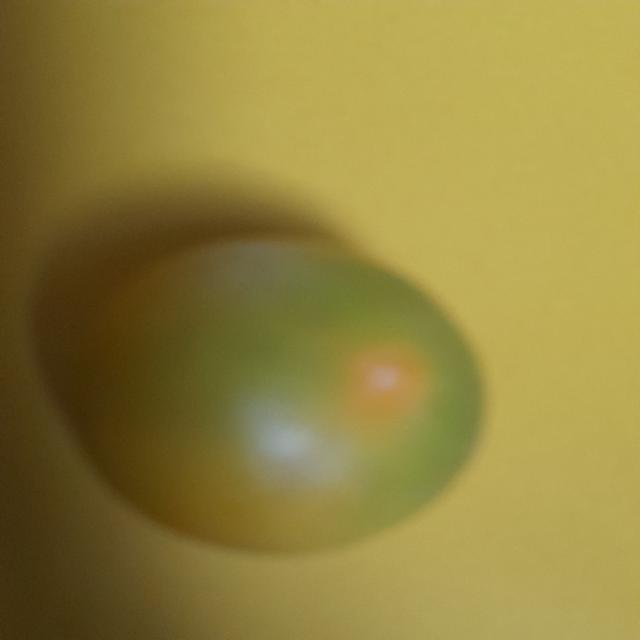greening: (104, 213, 490, 557)
